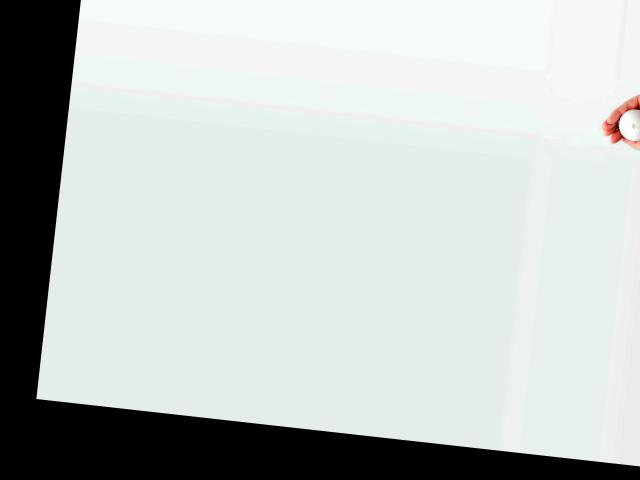egg: (616, 107, 640, 141)
